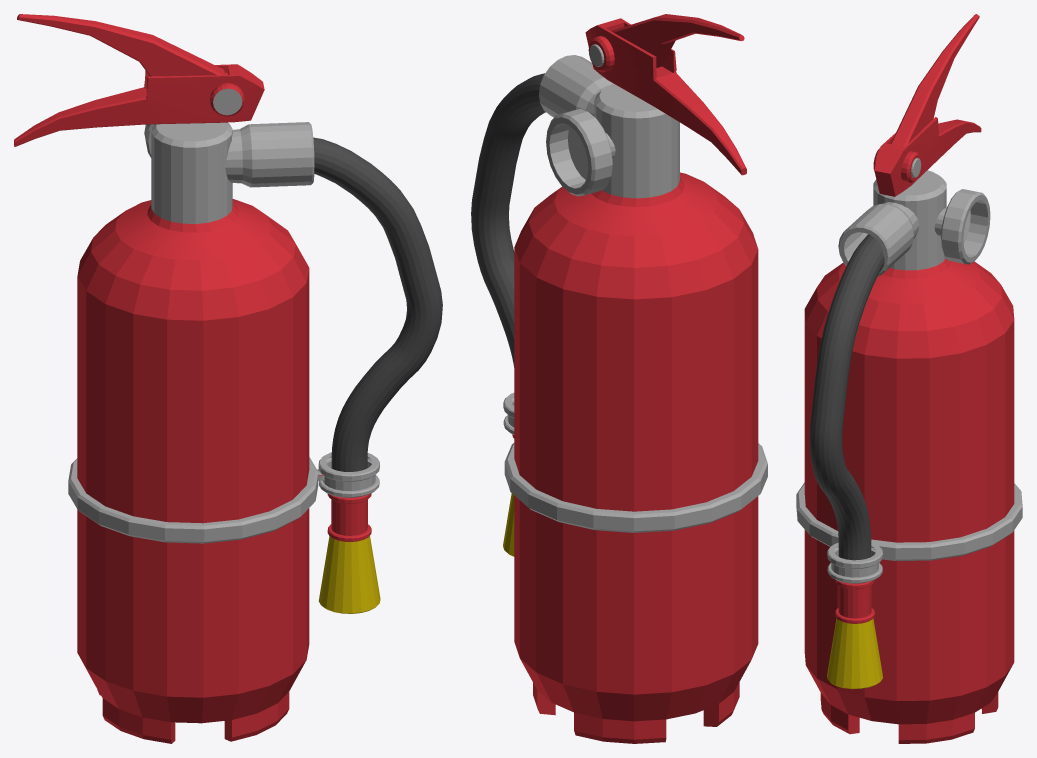
File: fireextinguisher.fbx
The picture shows the model from 3 angles, left to right: view 1: azimuth 30°, elevation 25°; view 2: azimuth 150°, elevation 25°; view 3: azimuth 270°, elevation 25°; orthographic projection. The views are drawn at different scales.
Visible parts, largest first — view 1: Cylinder; view 2: Cylinder; view 3: Cylinder.
Part boxes in pixels (bbox=[...]): Cylinder: bbox=[14, 14, 442, 743]; Cylinder: bbox=[471, 14, 767, 743]; Cylinder: bbox=[796, 14, 1022, 743].
Size of the model in its own units: 66.17 by 129 by 41.61.
